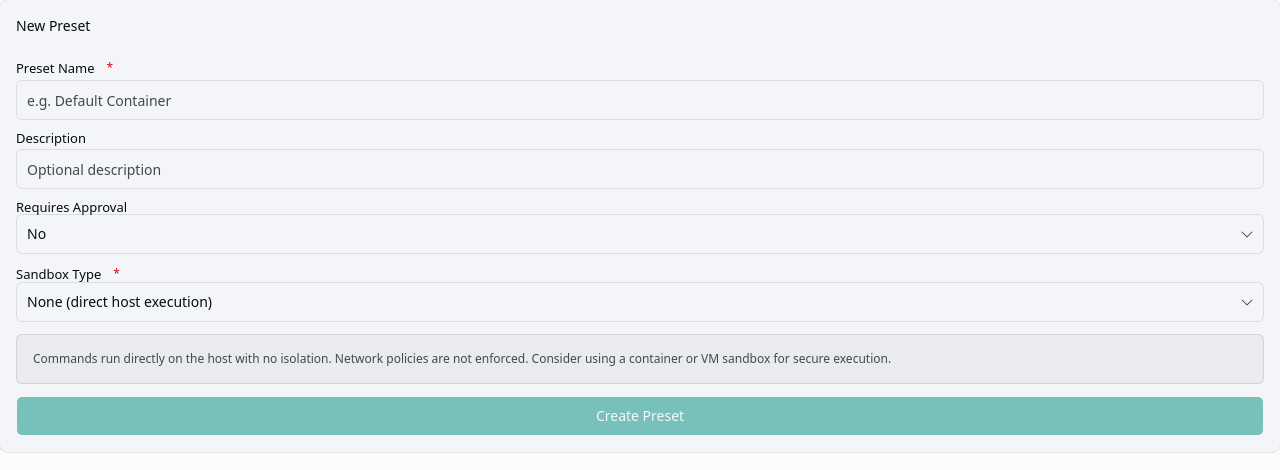
Test: SandboxConfigForm › sandbox type options › should label the "none" category with "(direct host execution)" suffix
The image size is (1280, 470).
Click the dropdown named "Sandbox Type" at coordinates (120, 302), box [16,282,1264,322]
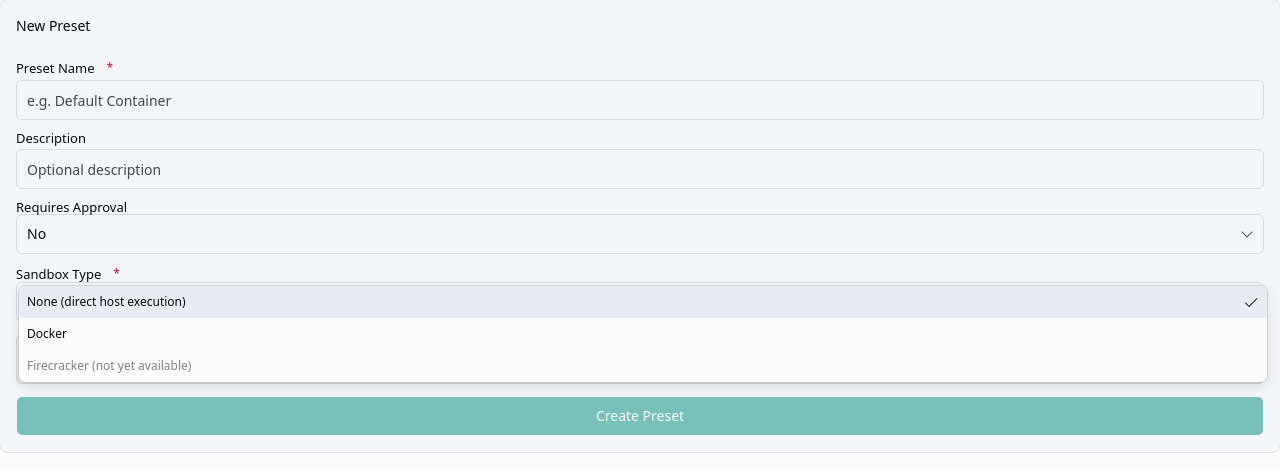
expect the option "None (direct host execution)" is shown: met, box [19,286,1267,318]
